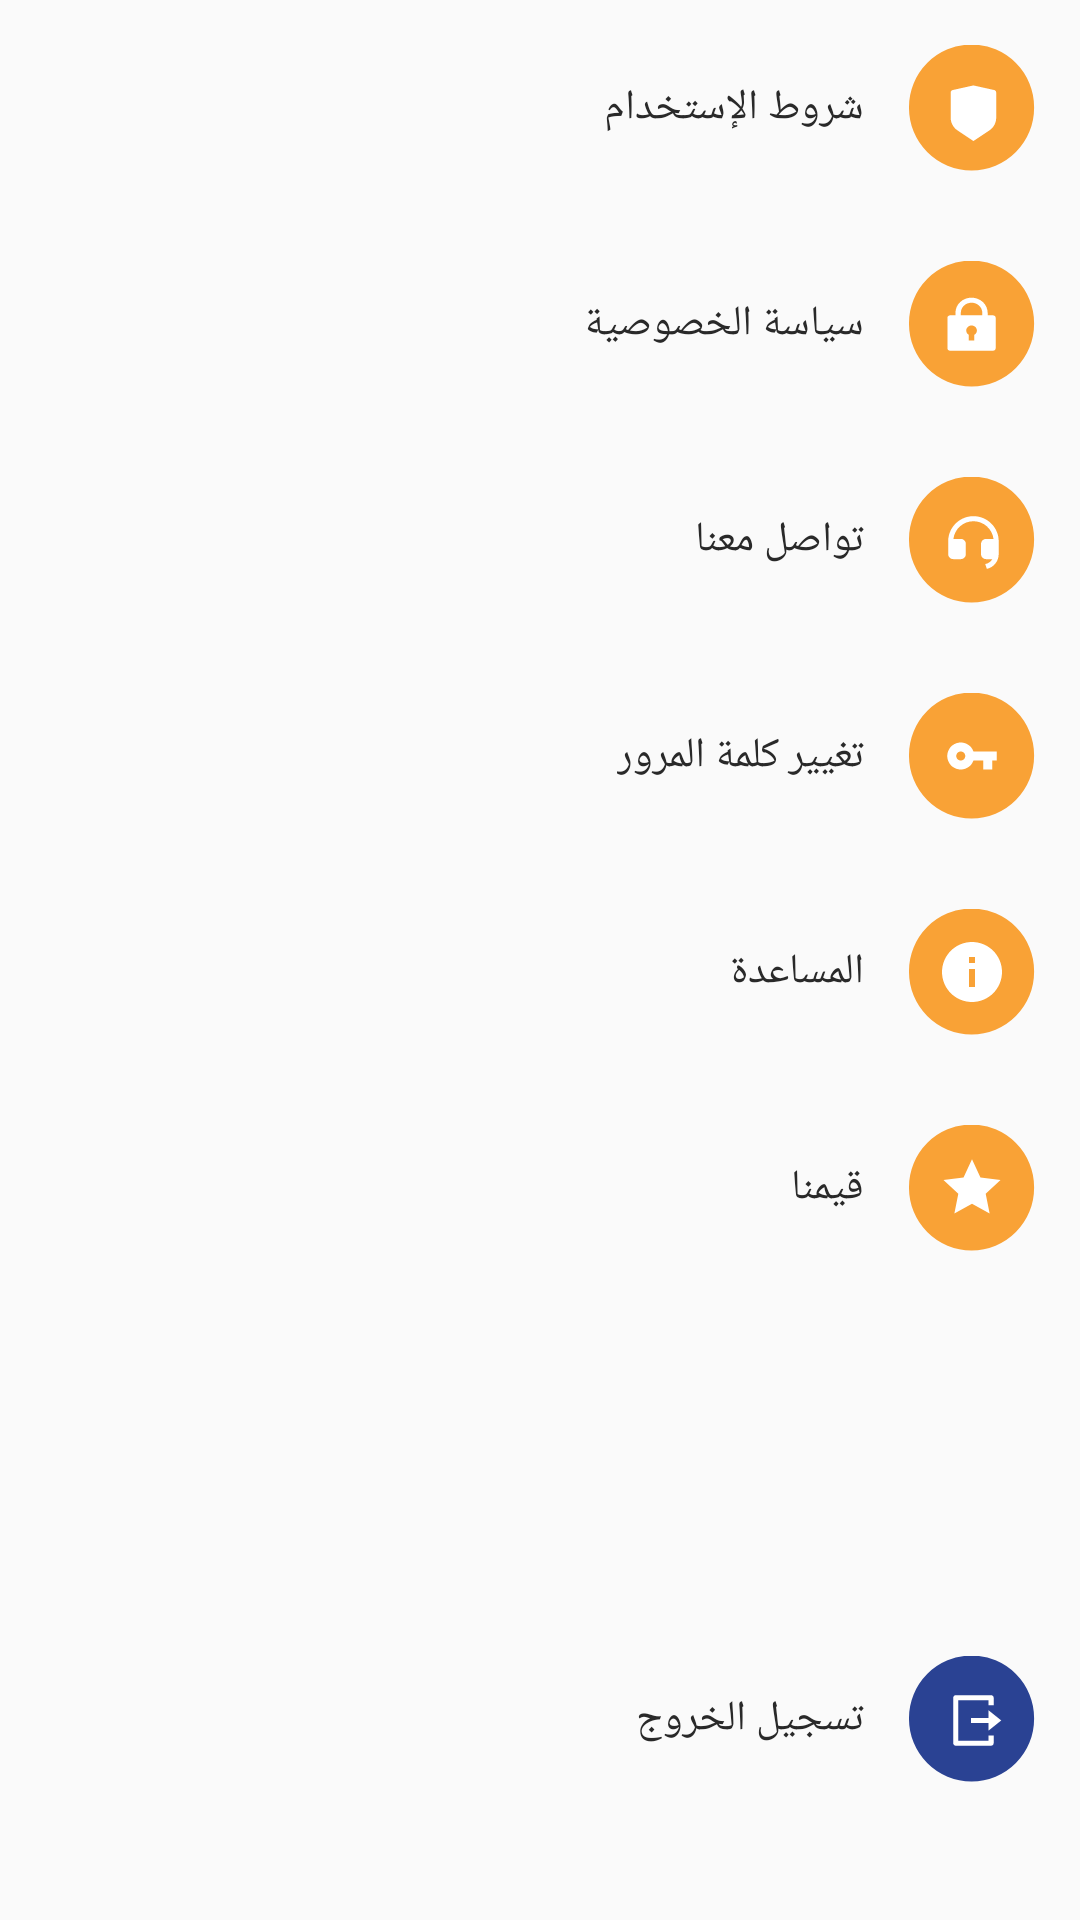

Where to tap for icons on this 1080 x 1920 app screen, as (x=x, y=y):
contactus: (x=971, y=540)
help: (x=971, y=972)
lock: (x=971, y=324)
password: (x=971, y=756)
rateus: (x=971, y=1188)
shield: (x=971, y=108)
